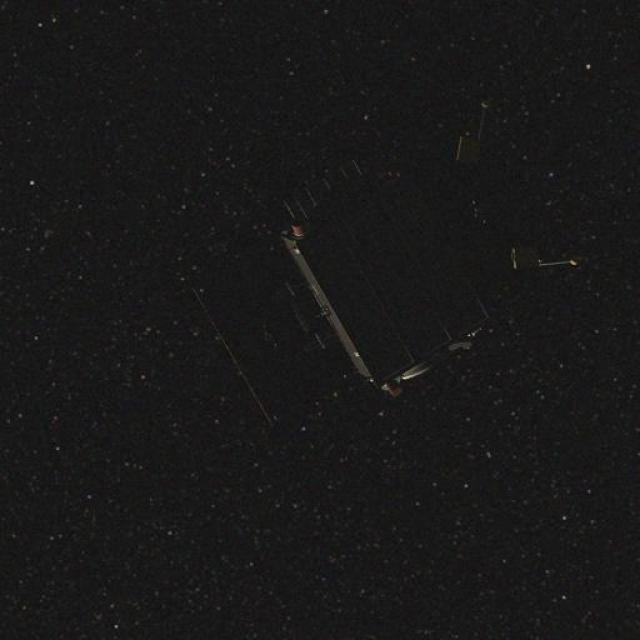proba_2: (229, 88, 602, 428)
